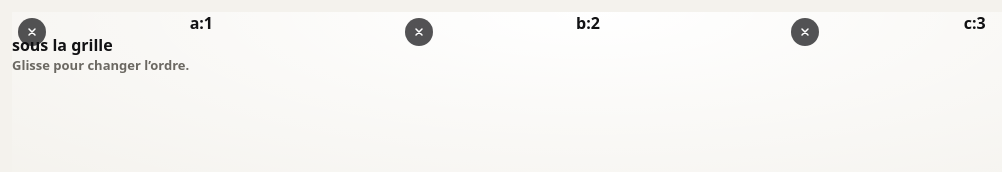
Test: ReorderGrid › à la souris : lâchée hors de la grille, la case se pose et l’annonce ; survoler ensuite, bouton relâché, ne déplace plus rien
The image size is (1002, 172).
Press the mouse on the button "a:1" at (201, 23), box [12,12,391,34]
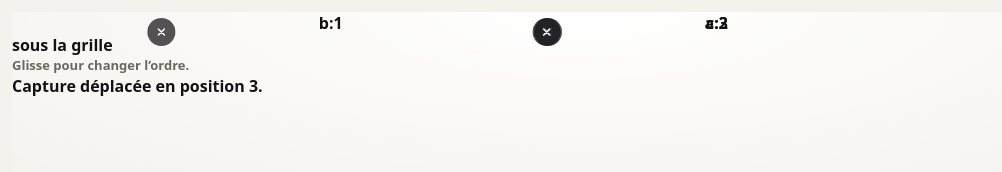
Check: the text with test id "annonce" reads "Capture déplacée en position 3.", box [12,75,263,97]
